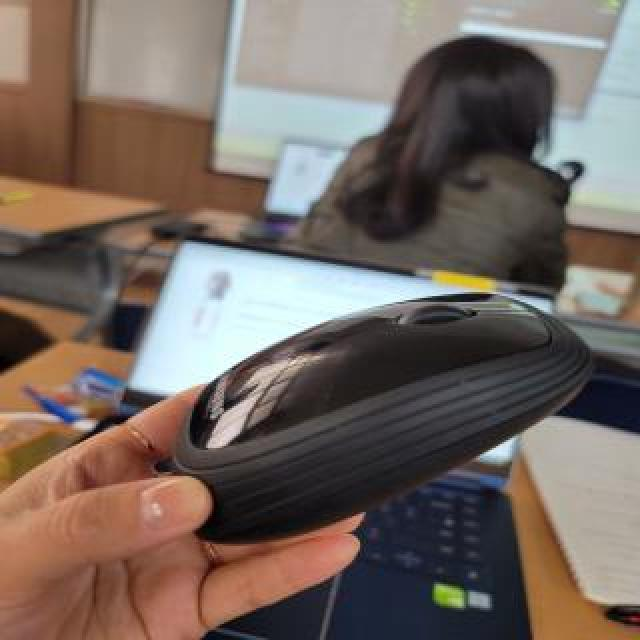mouse: (190, 278, 592, 554)
